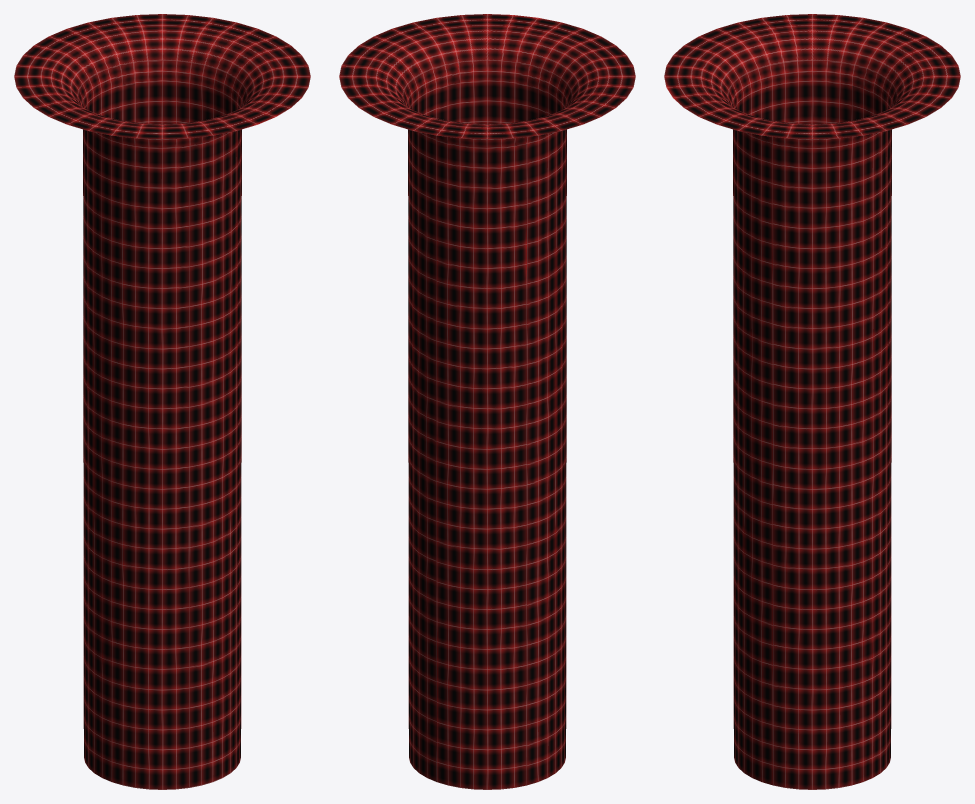
File: Hole.fbx
3 renders of one model, left to right at view 1: azimuth 30°, elevation 25°; view 2: azimuth 150°, elevation 25°; view 3: azimuth 270°, elevation 25°, orthographic.
Parts seen in each view (by area): view 1: Scheibe; view 2: Scheibe; view 3: Scheibe.
Boxes of the visible parts, <box> form: Scheibe: <box>14,14,310,789</box>; Scheibe: <box>339,14,635,789</box>; Scheibe: <box>664,14,960,789</box>.
Size of the model in its own units: 1400 by 3540 by 1400.
